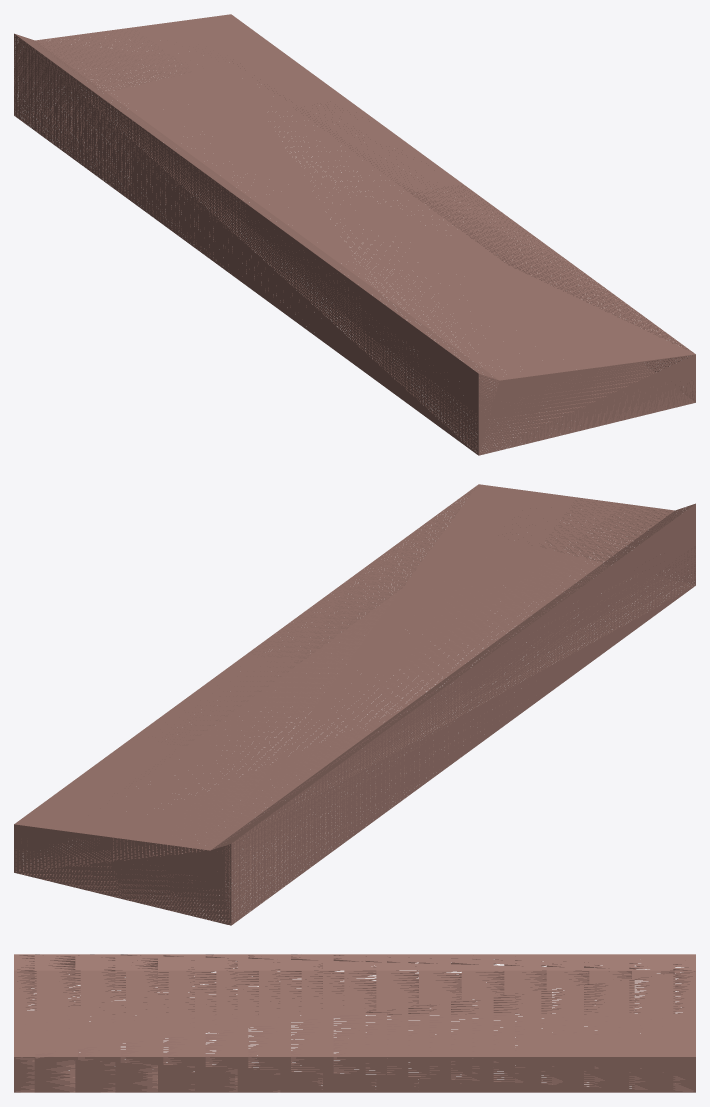
Rendered from SW_ENV_EL_Station_Elevator_Walkway_Roof_Collision.fbx.
3 renders of one model, top to bottom at view 1: azimuth 30°, elevation 25°; view 2: azimuth 150°, elevation 25°; view 3: azimuth 270°, elevation 25°, orthographic. The views are drawn at different scales.
Parts seen in each view (by area): view 1: SW_ENV_EL_Station_Elevator_Walkway_Roof_Collision; view 2: SW_ENV_EL_Station_Elevator_Walkway_Roof_Collision; view 3: SW_ENV_EL_Station_Elevator_Walkway_Roof_Collision.
Part boxes in pixels (x1,y1,x2,y2): SW_ENV_EL_Station_Elevator_Walkway_Roof_Collision: (14, 14, 695, 455); SW_ENV_EL_Station_Elevator_Walkway_Roof_Collision: (14, 484, 695, 925); SW_ENV_EL_Station_Elevator_Walkway_Roof_Collision: (14, 954, 695, 1092).
Bounding box in the file's own units: 270 × 97.44 × 1000.
